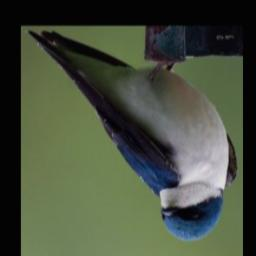Swallow: (26, 28, 238, 243)
